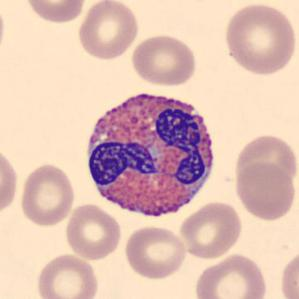Eosinophil: (80, 80, 221, 227)
RBC: (221, 1, 297, 77), (76, 0, 142, 62), (232, 160, 296, 222), (178, 200, 244, 260), (128, 32, 198, 88), (18, 162, 77, 228), (122, 223, 188, 281), (231, 132, 298, 188), (63, 202, 124, 261), (193, 252, 268, 299), (34, 252, 100, 299), (22, 0, 88, 25), (0, 144, 20, 219), (278, 248, 298, 299), (0, 1, 7, 62)
